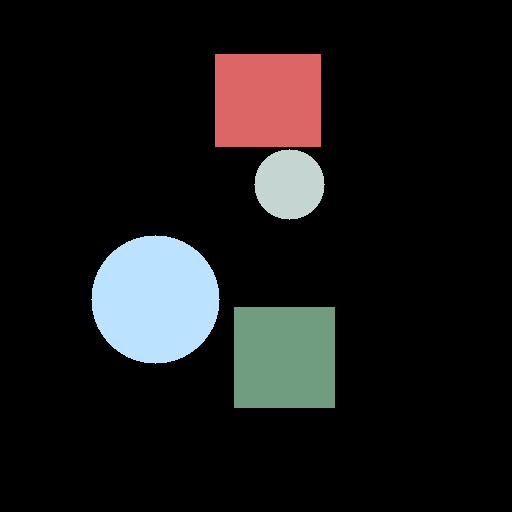circle: (91, 235, 219, 363), (254, 149, 324, 219)
rectangle: (215, 54, 320, 146)
square: (234, 307, 334, 407)
